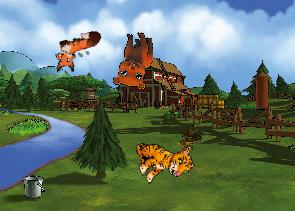bear: (112, 31, 153, 89)
fox: (48, 28, 107, 75)
tiger: (130, 128, 196, 189)
